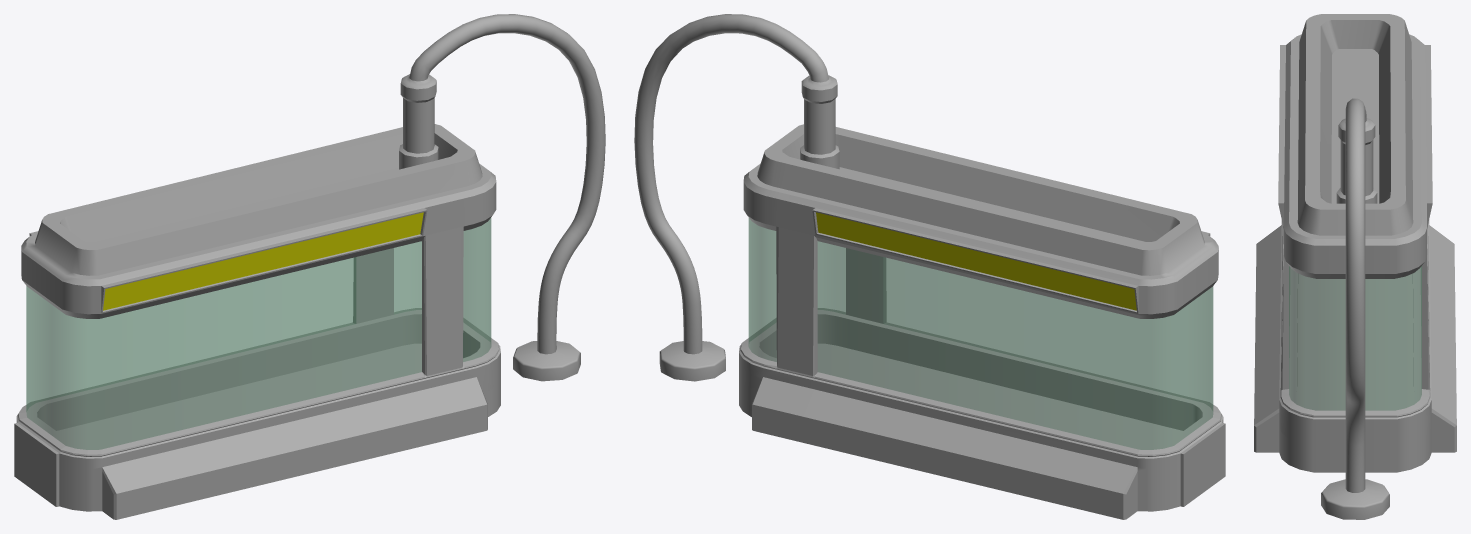
File: Tube_LongTub.fbx
3 views of the same model, side by side, from view 1: azimuth 30°, elevation 25°; view 2: azimuth 150°, elevation 25°; view 3: azimuth 270°, elevation 25° (orthographic).
Visible parts, largest first — view 1: Tube_LongTub; view 2: Tube_LongTub; view 3: Tube_LongTub.
Boxes of the visible parts, x1,y1,x2,y2 form: Tube_LongTub: (14, 14, 605, 519); Tube_LongTub: (634, 14, 1225, 519); Tube_LongTub: (1254, 14, 1456, 519).
Size of the model in its own units: 7.43 by 4.55 by 2.28.
